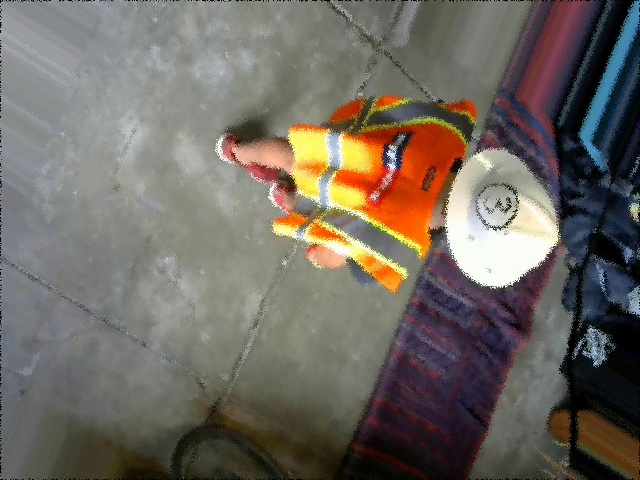three: (470, 172, 523, 238)
